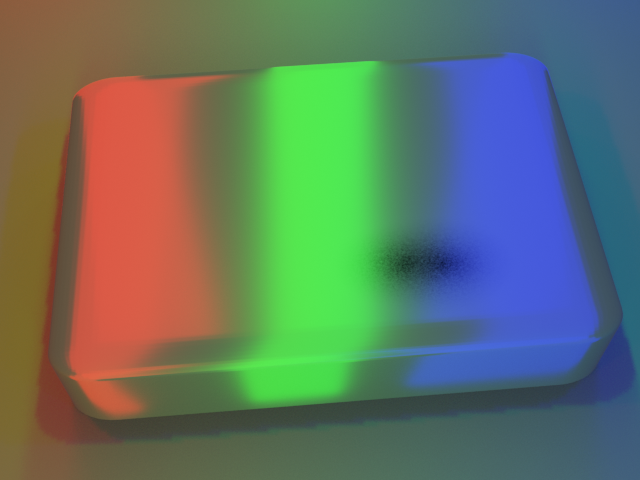stain: (313, 201, 562, 349)
